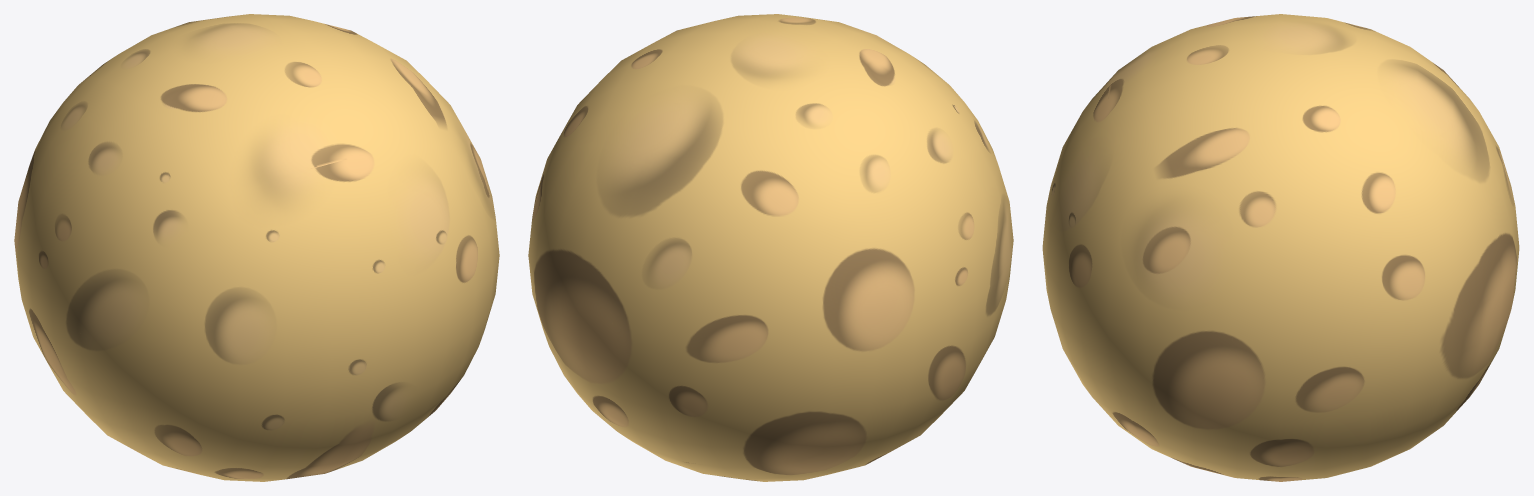
File: moon.glb
The picture shows the model from 3 angles, left to right: view 1: azimuth 30°, elevation 25°; view 2: azimuth 150°, elevation 25°; view 3: azimuth 270°, elevation 25°; orthographic projection.
Visible parts, largest first — view 1: Plane; view 2: Plane; view 3: Plane.
Part boxes in pixels (x1,y1,x2,y2): Plane: (14, 14, 499, 481); Plane: (528, 14, 1013, 481); Plane: (1042, 14, 1519, 481).
Size of the model in its own units: 1.68 by 1.62 by 1.68.
Materials: 1 (1 with a texture image).
